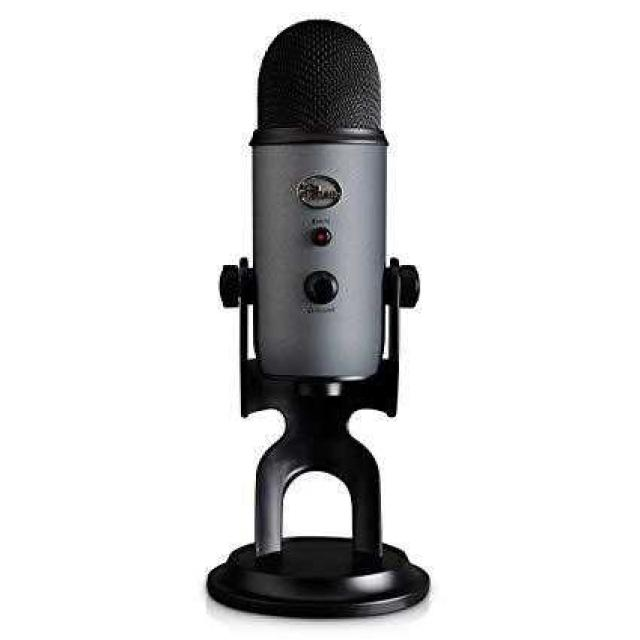microphone: (219, 19, 427, 447)
